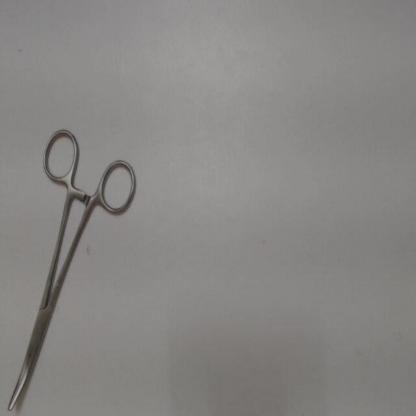Crile Artery Forceps: (3, 120, 142, 414)
